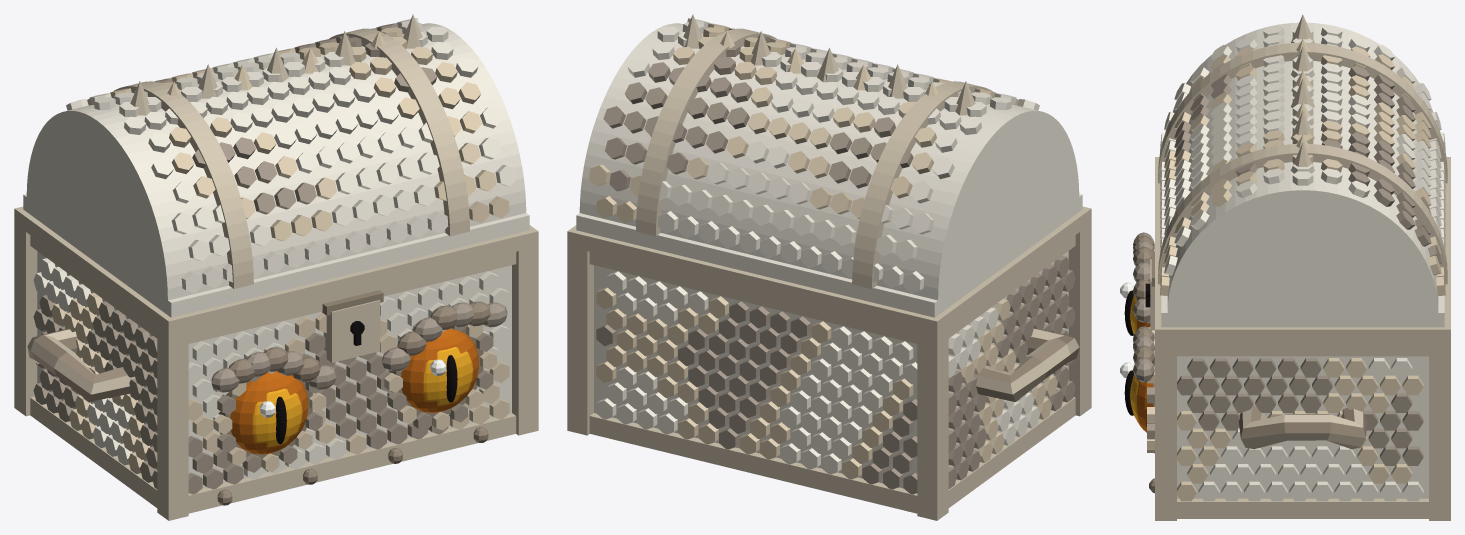
File: boss_chest_gila_grande.glb
3 views of the same model, side by side, from view 1: azimuth 30°, elevation 25°; view 2: azimuth 150°, elevation 25°; view 3: azimuth 270°, elevation 25° (orthographic). The views are drawn at different scales.
Parts seen in each view (by area): view 1: Lid, Body; view 2: Lid, Body; view 3: Lid, Body.
Part boxes in pixels (x1,y1,x2,y2): Lid: (14,14,538,336); Body: (14,223,538,520); Lid: (567,14,1091,336); Body: (567,223,1091,520); Lid: (1155,14,1450,343); Body: (1120,232,1450,520).
Size of the model in its own units: 1.63 by 1.25 by 1.05.
